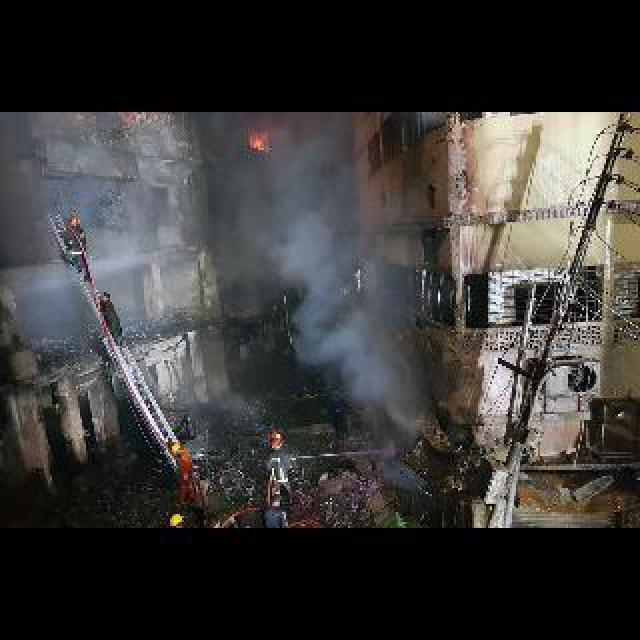Fire: (240, 130, 280, 154)
Smoke: (232, 174, 392, 358), (310, 310, 436, 450)
